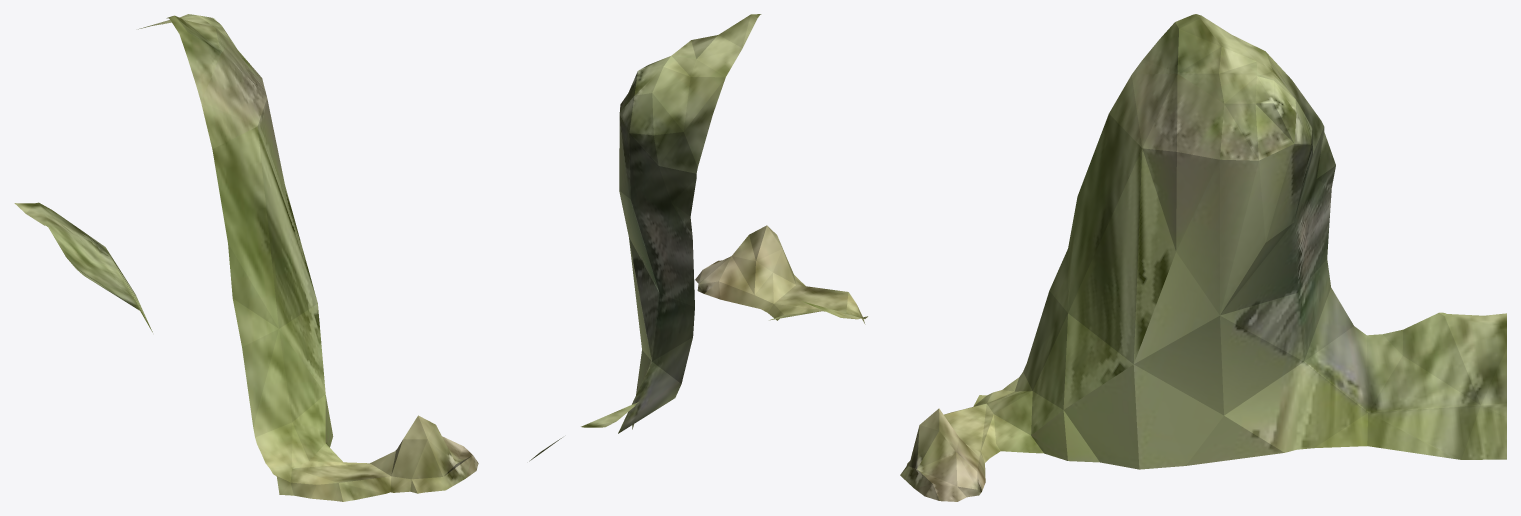
3 renders of one model, left to right at view 1: azimuth 30°, elevation 25°; view 2: azimuth 150°, elevation 25°; view 3: azimuth 270°, elevation 25°, orthographic.
Bounding box in the file's own units: 0.8703 × 1.79 × 2.48.
Materials: 1 (1 with a texture image).
